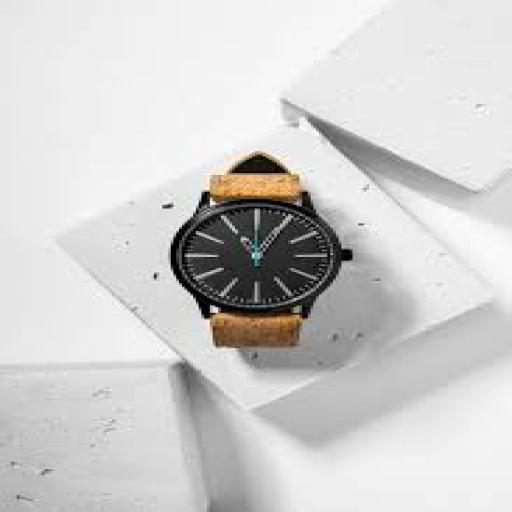KolSaati: (162, 160, 369, 370)
